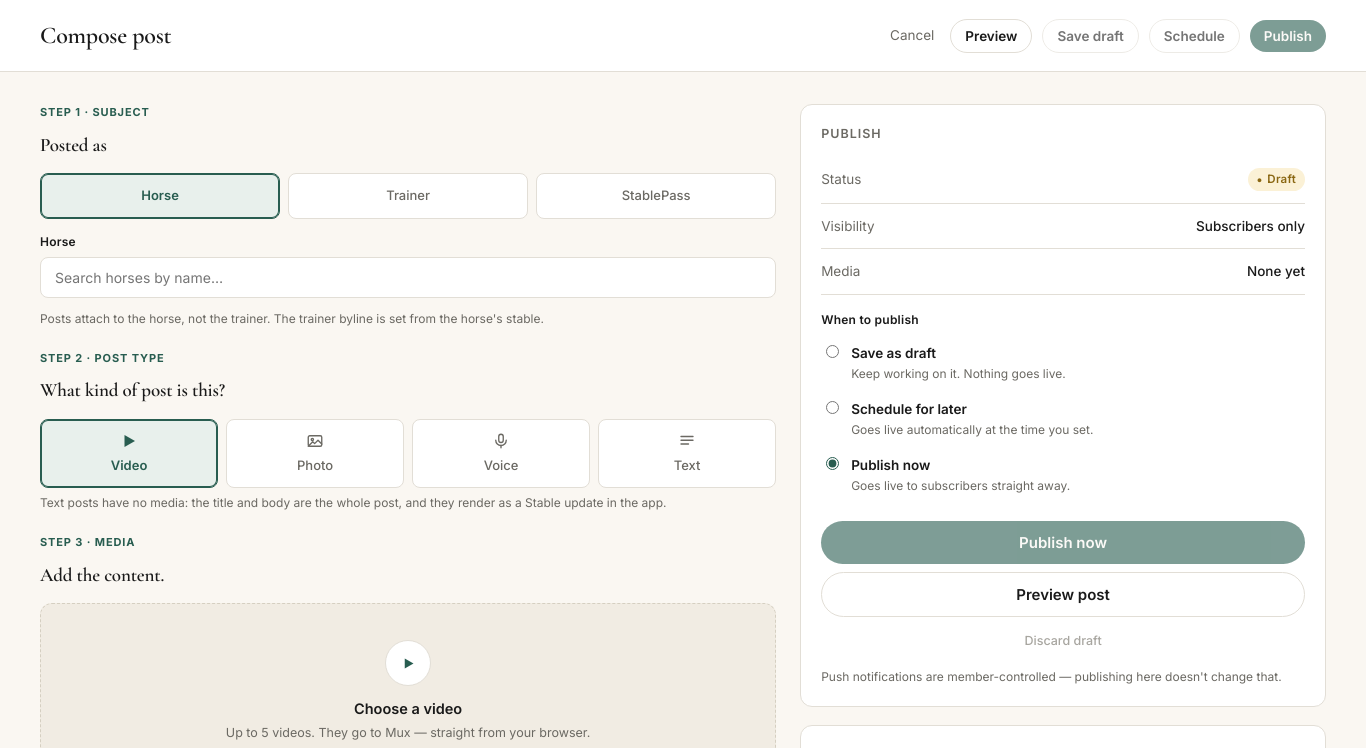
Test case: ComposeScreen › a ready text post enables the TOPBAR actions too, not just the sidebar one
Type "Mah" into the field with test id "horse-search" at [408, 277], box [40,256,776,298]
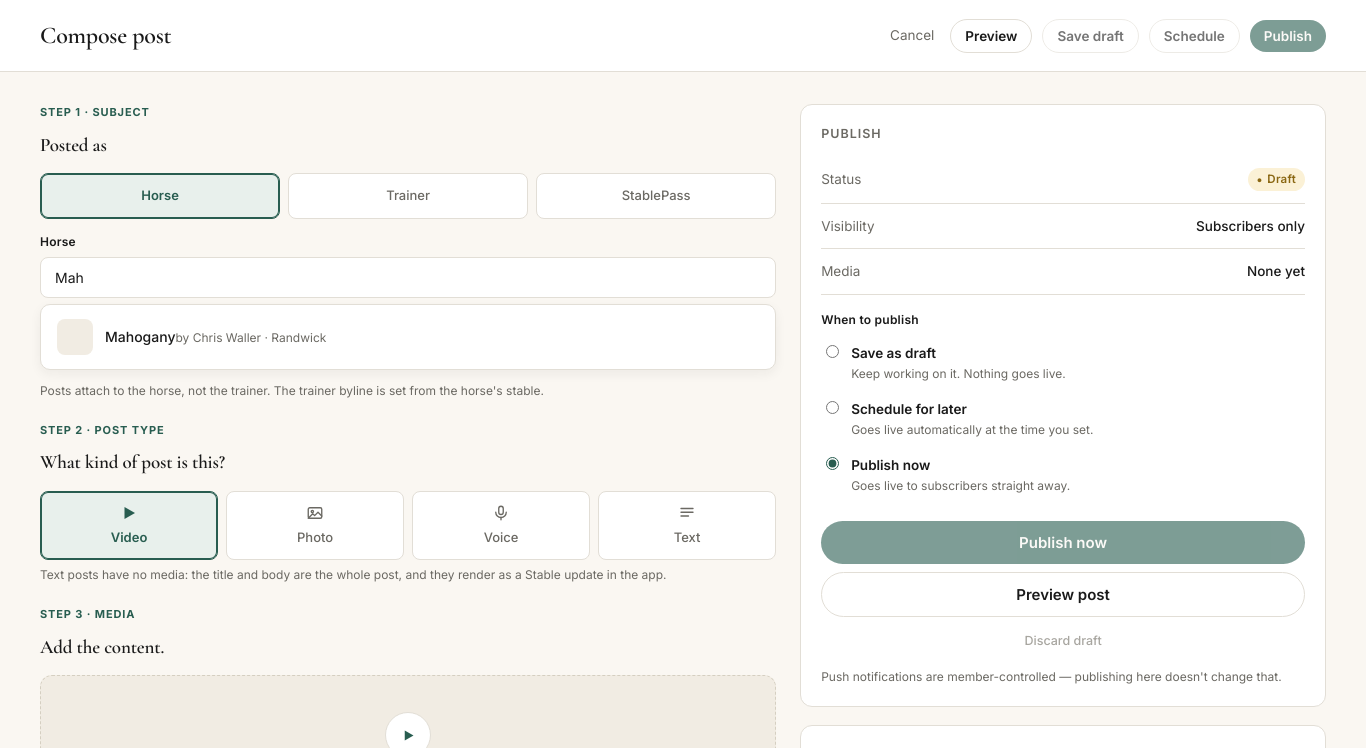
Click the button with test id "horse-opt-h1" at [75, 336], box [47,310,769,362]
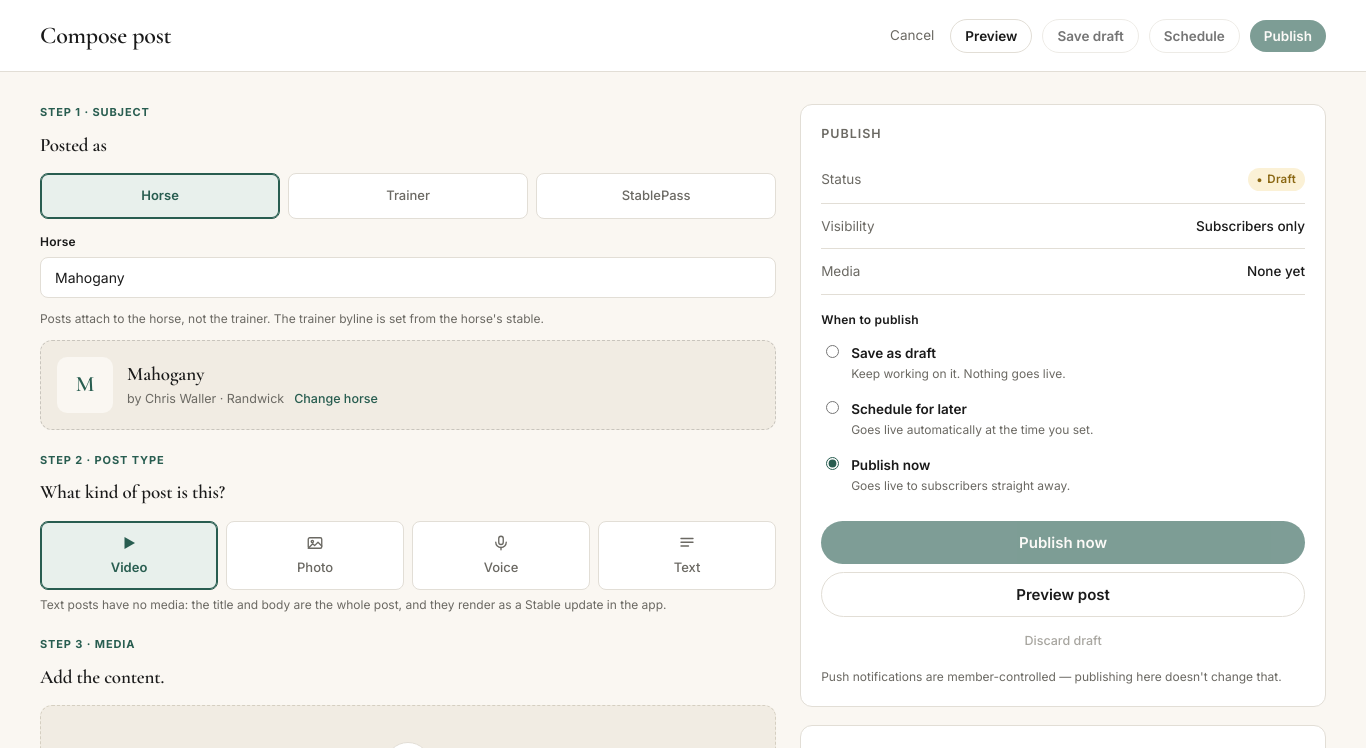
Click the radio button labelled "Text" at [687, 555], box [598,520,776,590]
(page scrolled)
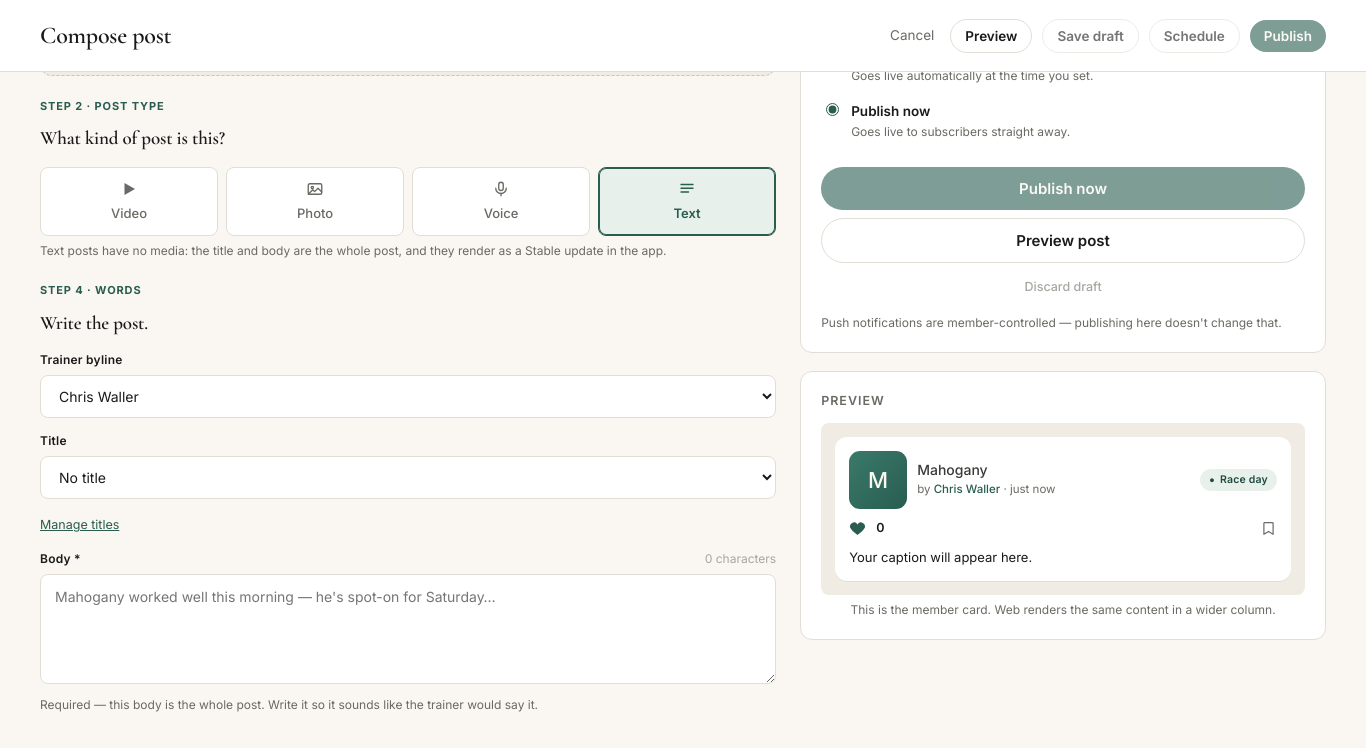
Replace the text in the text box with test id "caption" with "Stable update text" at [408, 628], box [40,574,776,684]
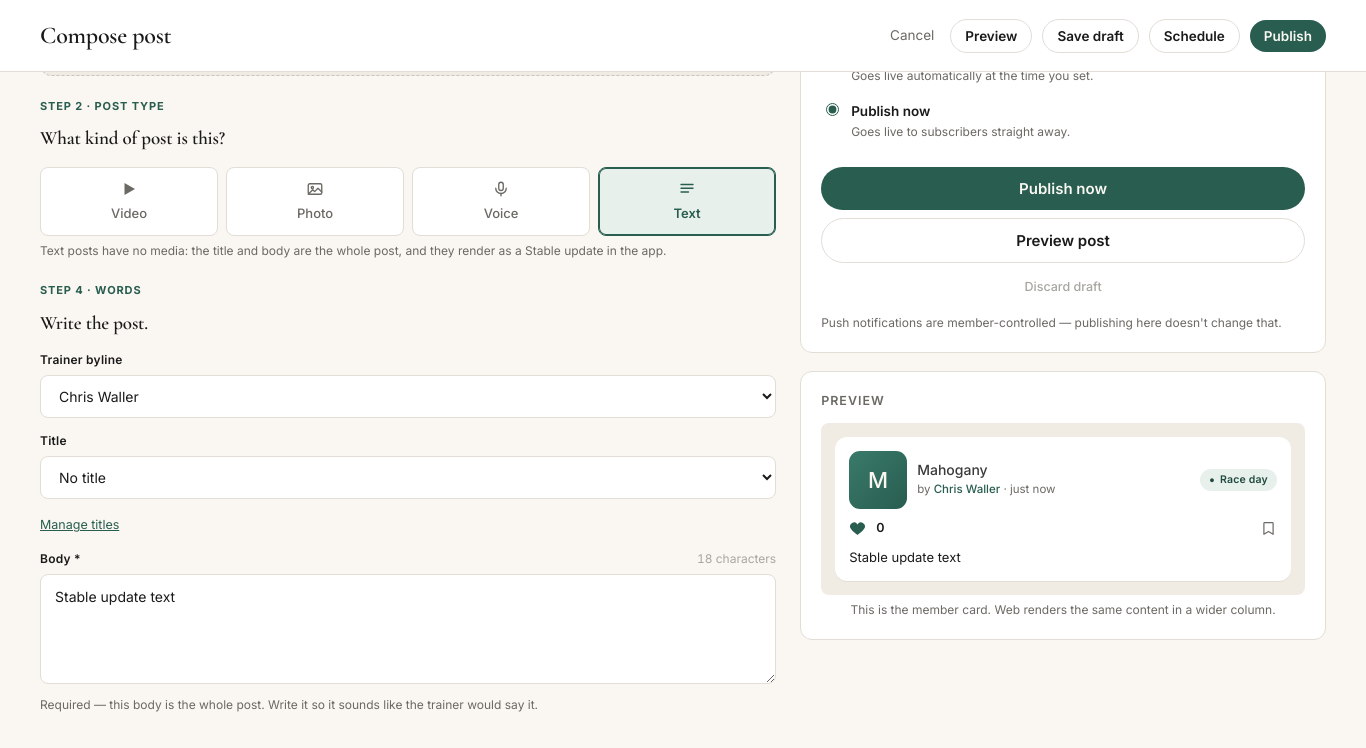
Result: the button with test id "primary-action" is enabled at [821,167,1305,210]
Result: the button "Save draft" is enabled at [1042,18,1139,52]
Result: the button "Schedule" is enabled at [1149,18,1240,52]
